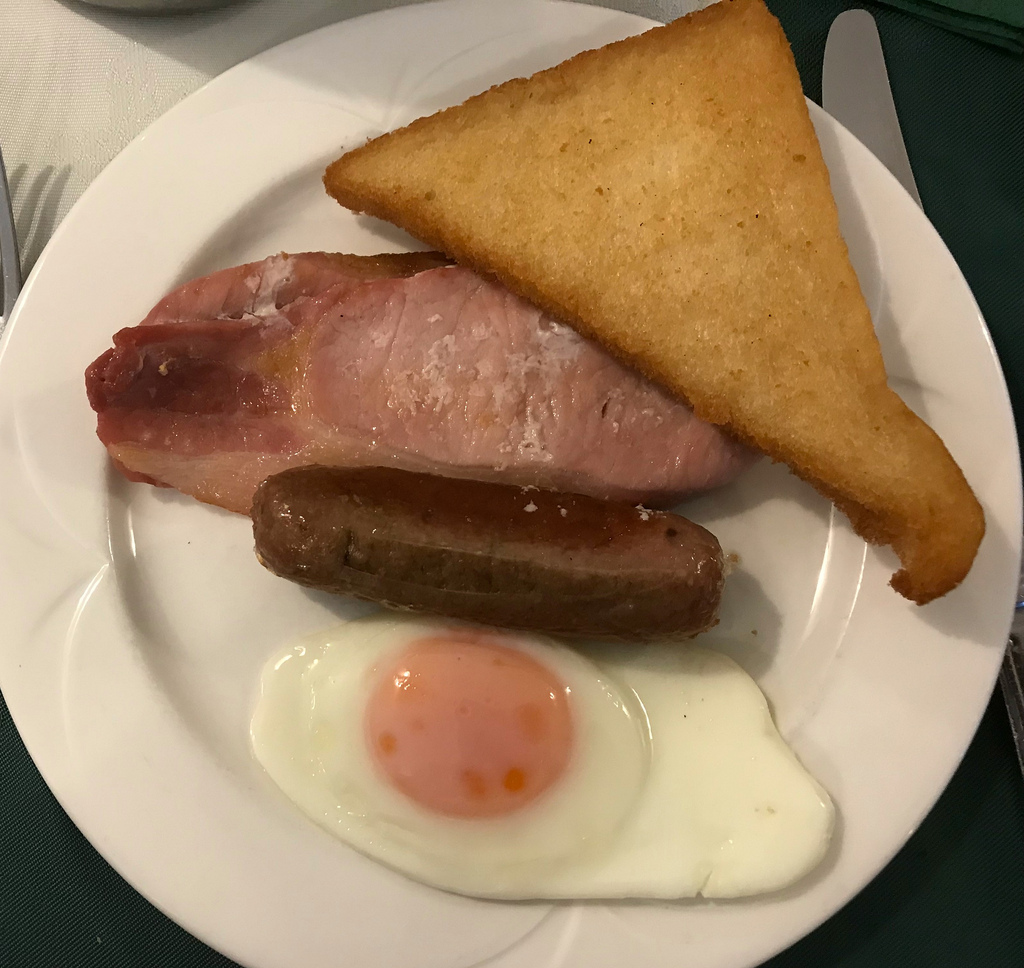fried egg: (254, 620, 842, 919)
slice of bread: (350, 10, 988, 602)
